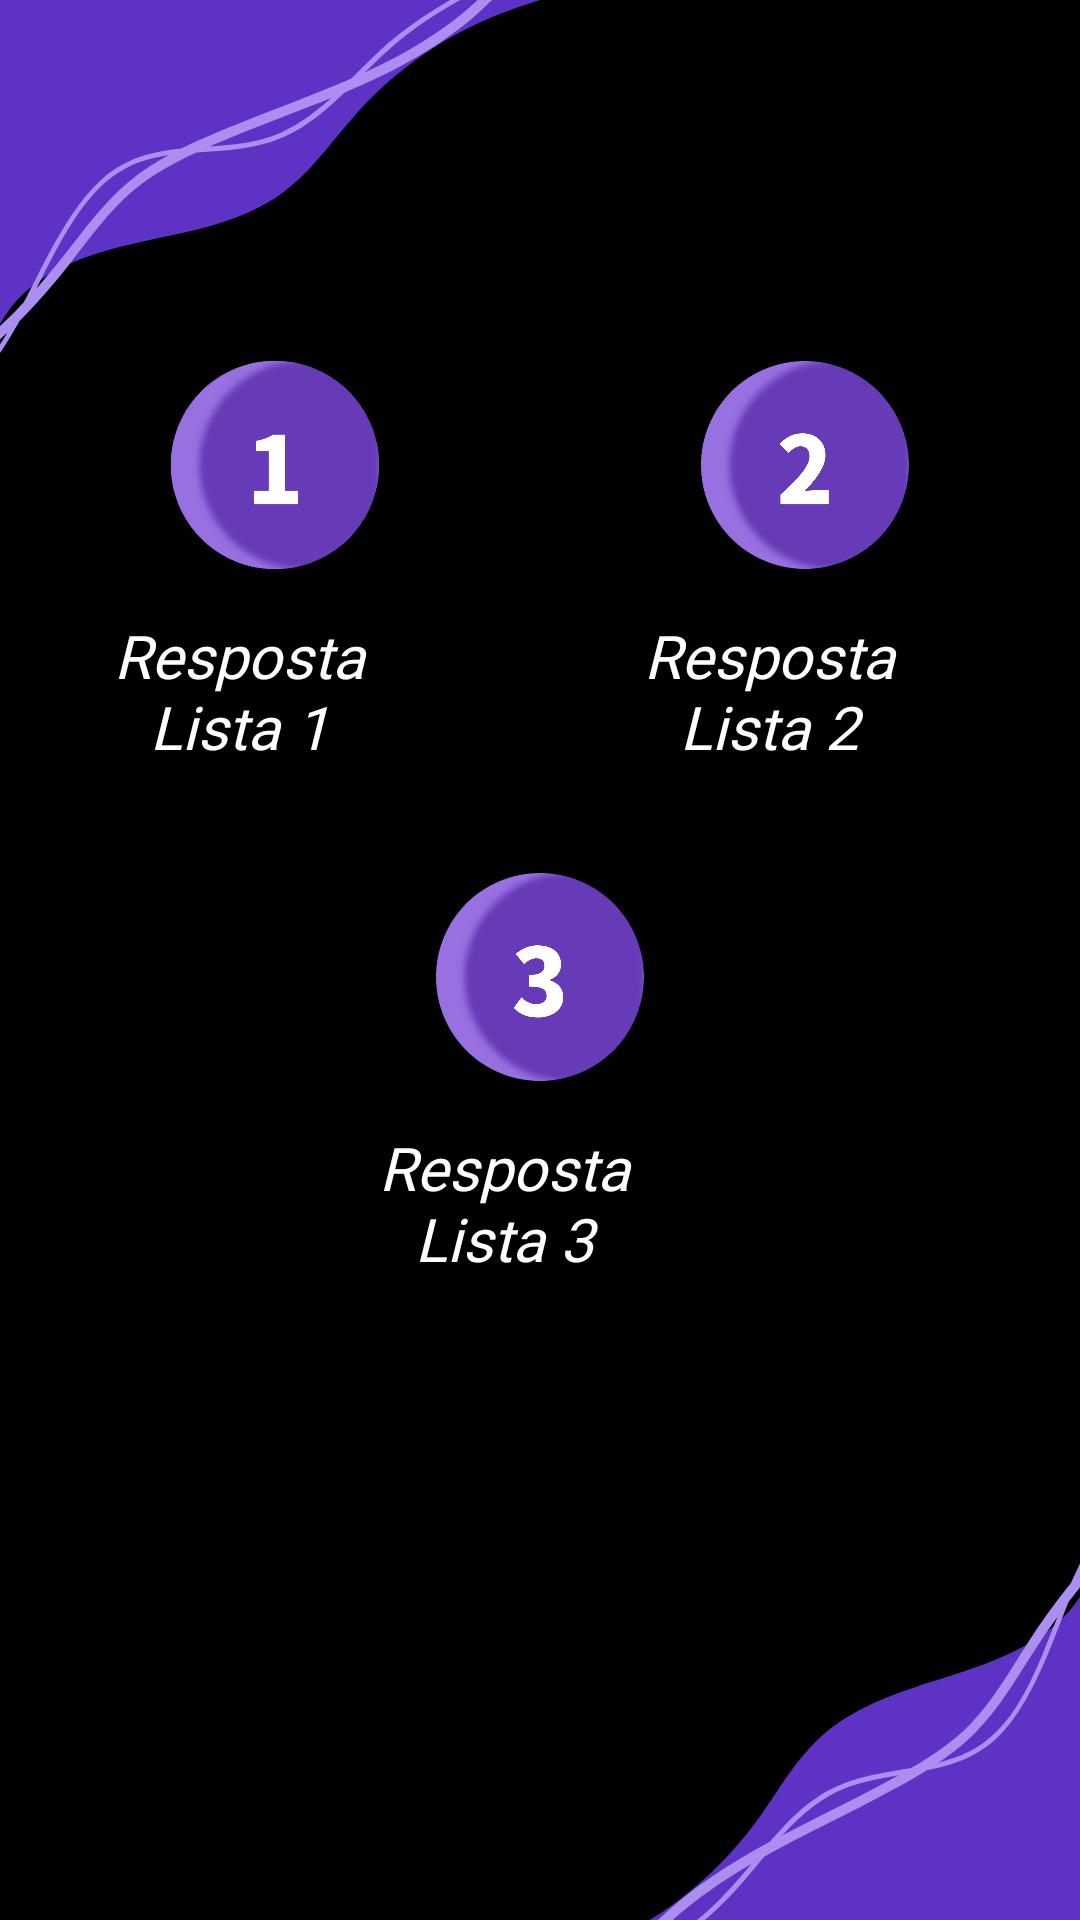

Locate icon controls on the screen. Image size 1080×1920, boxes as bbox=(x1, y1, x2, y2).
numero: bbox=(436, 873, 644, 1081)
